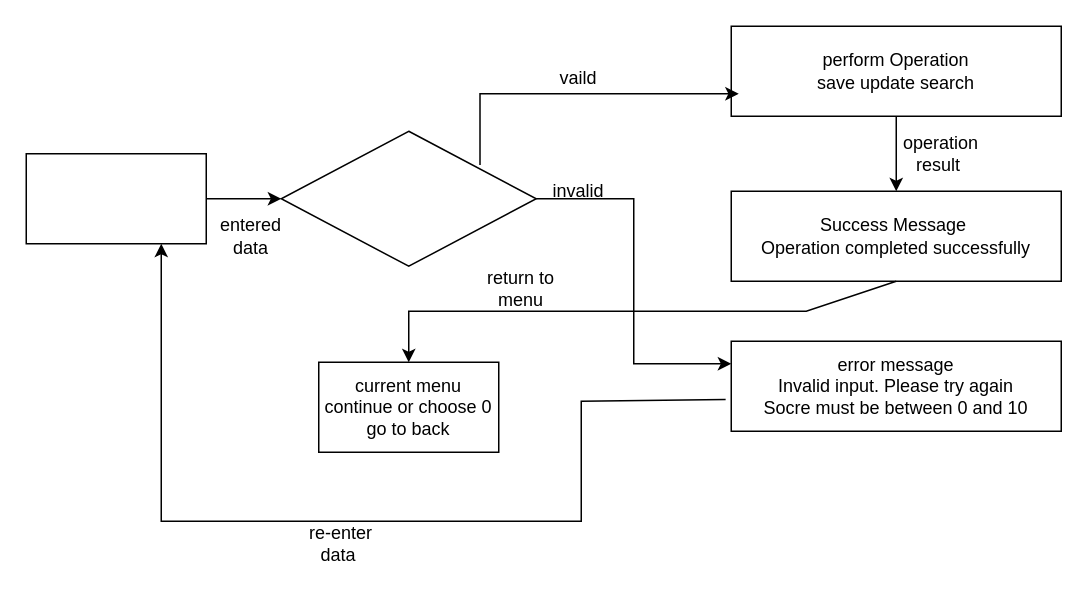
Some shapes in this 1088 by 593 pixel diagram are drawn without their labels. The shapes that lost their labels are listed below. From the top down, each one's box as (x1, y1, x2, y2) in pixels, then its label:
(25, 152, 206, 244): user input id name score option
(280, 130, 536, 266): validate input data
